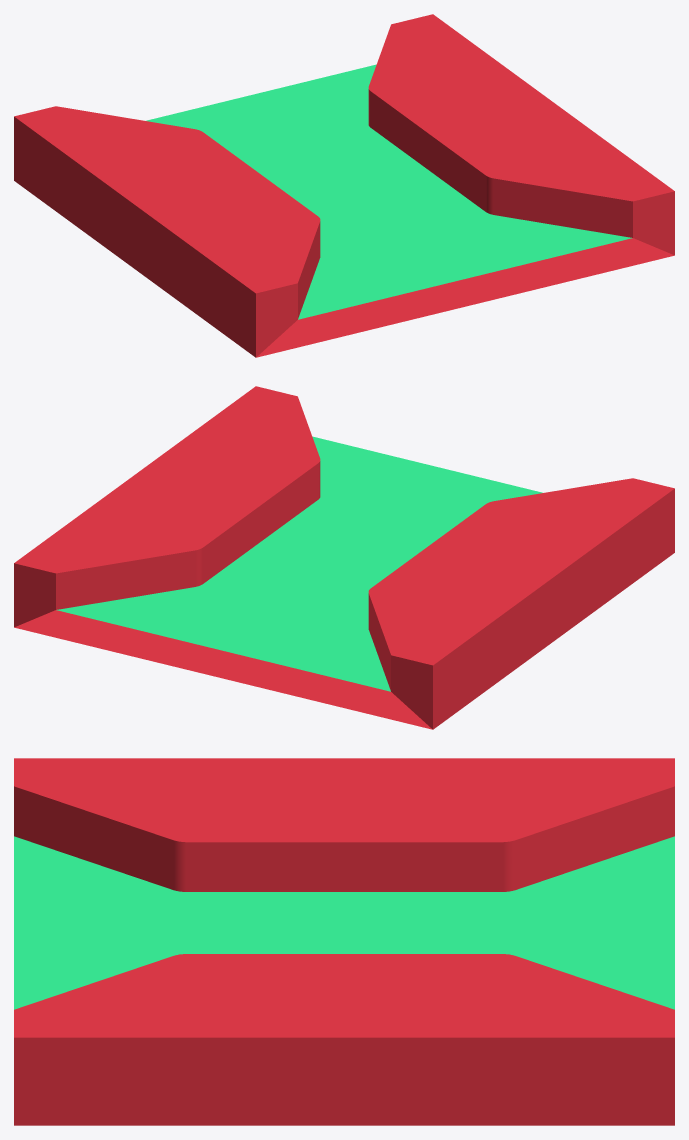
Rendered from narrowSquare.fbx.
3 renders of one model, top to bottom at view 1: azimuth 30°, elevation 25°; view 2: azimuth 150°, elevation 25°; view 3: azimuth 270°, elevation 25°, orthographic. The views are drawn at different scales.
Visible parts, largest first — view 1: narrowSquare; view 2: narrowSquare; view 3: narrowSquare.
Boxes of the visible parts, bbox=[...] form: narrowSquare: bbox=[14, 14, 674, 357]; narrowSquare: bbox=[14, 386, 674, 729]; narrowSquare: bbox=[14, 758, 674, 1125].
Size of the model in its own units: 99.99 by 99.99 by 14.67.
